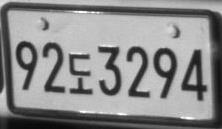2: (125, 45, 151, 98), (41, 40, 66, 93)
3: (97, 45, 122, 96)
4: (180, 48, 207, 101)
9: (14, 39, 38, 90), (153, 47, 177, 98)
도: (68, 52, 94, 95)
